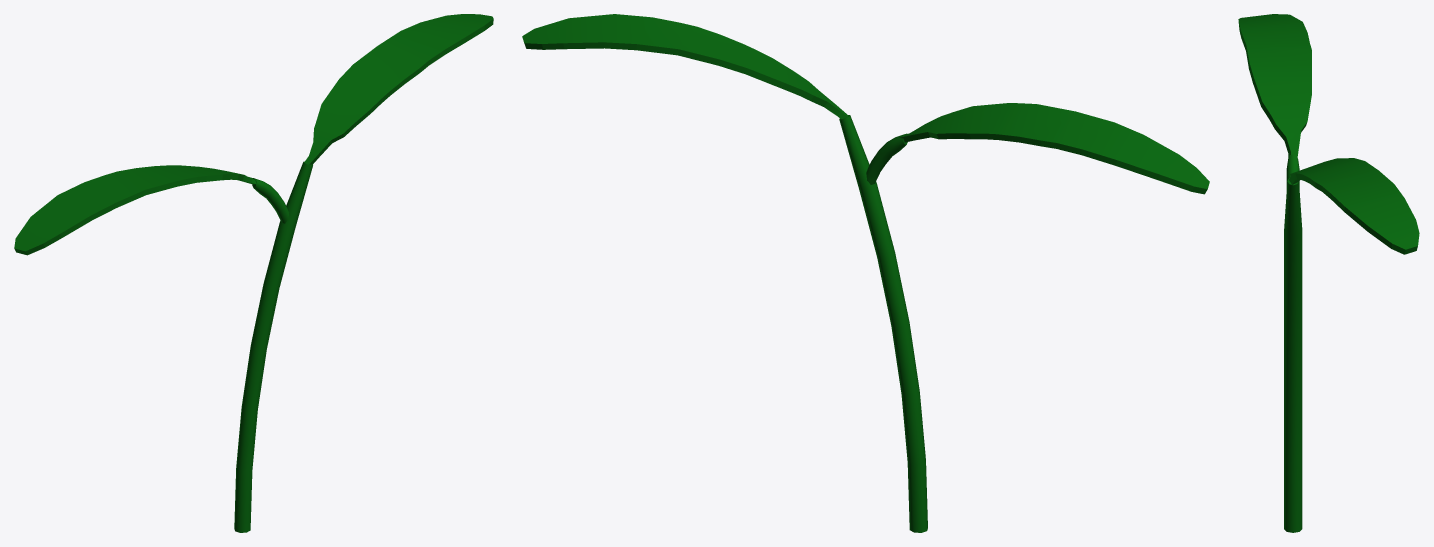
Rendered from 番茄發芽.FBX.
3 renders of one model, left to right at view 1: azimuth 30°, elevation 25°; view 2: azimuth 150°, elevation 25°; view 3: azimuth 270°, elevation 25°, orthographic. The views are drawn at different scales.
Visible parts, largest first — view 1: Cylinder002; view 2: Cylinder002; view 3: Cylinder002.
Part boxes in pixels (box(x1,y1,x2,y2)): Cylinder002: box(14, 14, 493, 532); Cylinder002: box(522, 14, 1209, 532); Cylinder002: box(1238, 14, 1419, 532).
Size of the model in its own units: 51.72 by 37.72 by 13.63.
